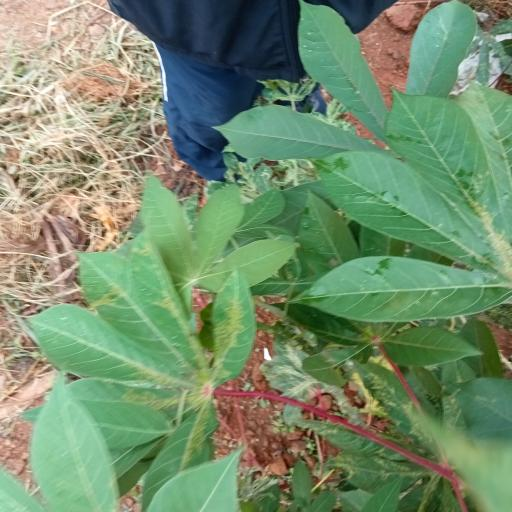Cassava_Healthy: (30, 250, 254, 477), (316, 84, 512, 324)
